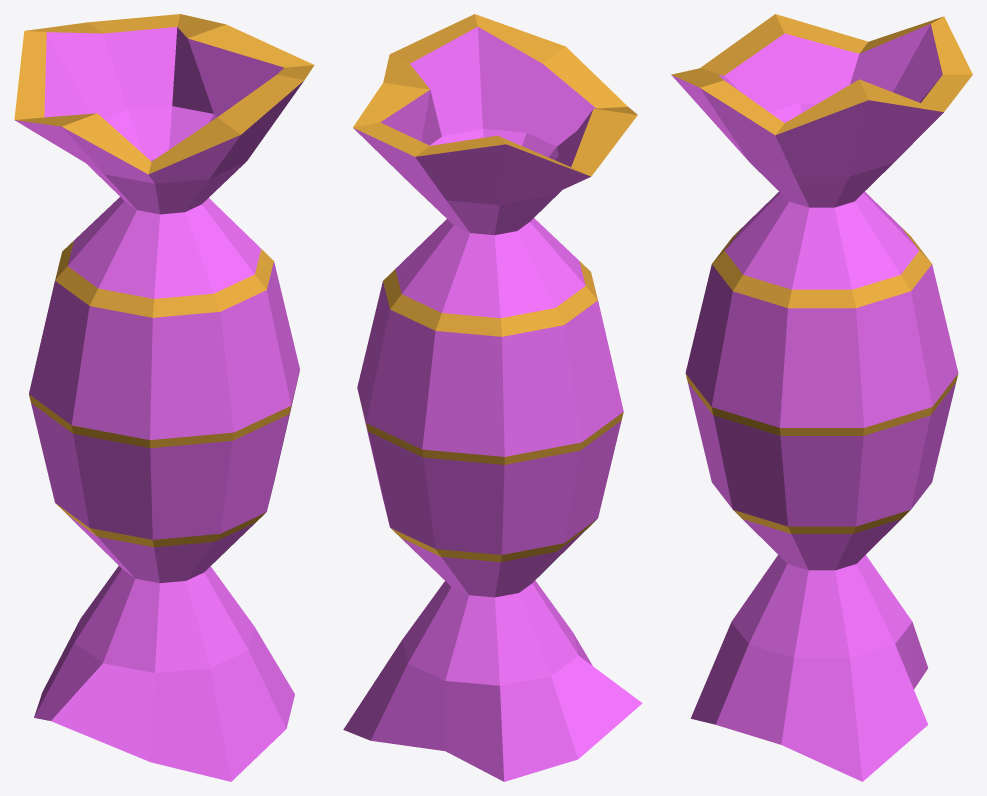
File: BigSweet.fbx
The picture shows the model from 3 angles, left to right: view 1: azimuth 30°, elevation 25°; view 2: azimuth 150°, elevation 25°; view 3: azimuth 270°, elevation 25°; orthographic projection.
Visible parts, largest first — view 1: Circle.091; view 2: Circle.091; view 3: Circle.091.
Part boxes in pixels (x1,y1,x2,y2): Circle.091: [14, 14, 314, 781]; Circle.091: [343, 14, 642, 781]; Circle.091: [671, 14, 972, 781].
Size of the model in its own units: 163 by 401 by 164.
